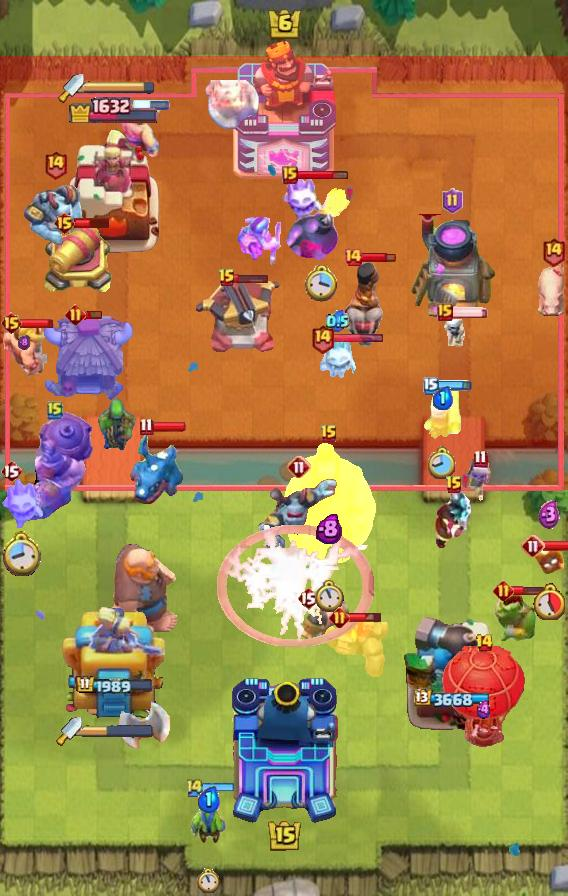axe: (118, 683, 172, 751), (205, 80, 261, 130)
bar: (296, 170, 349, 181), (332, 333, 384, 344), (74, 216, 111, 229), (451, 306, 489, 318), (151, 421, 187, 433), (348, 611, 383, 623), (361, 251, 396, 263), (511, 585, 546, 596), (437, 380, 472, 391), (234, 273, 269, 284), (132, 100, 170, 110), (202, 782, 236, 793), (20, 318, 54, 329), (543, 540, 568, 552), (83, 309, 103, 320)
bar-level: (310, 323, 335, 354), (541, 236, 566, 267), (43, 149, 68, 180), (521, 534, 545, 558), (287, 455, 311, 479), (0, 311, 23, 335), (53, 211, 76, 235), (442, 188, 463, 214), (297, 586, 319, 610), (0, 459, 22, 483), (329, 607, 350, 628), (493, 580, 514, 601), (65, 304, 86, 325), (185, 777, 205, 798), (343, 247, 363, 267), (475, 633, 494, 653), (445, 475, 463, 495), (320, 424, 338, 444), (218, 268, 236, 288), (47, 400, 63, 420), (423, 377, 439, 395), (437, 303, 453, 321), (282, 166, 298, 184), (473, 449, 488, 468), (139, 417, 154, 436)
bomb: (285, 186, 357, 260)
cannoneer-tower: (402, 615, 504, 731)
clock: (0, 529, 41, 576), (305, 265, 338, 303), (533, 583, 565, 620), (428, 446, 457, 481), (315, 580, 344, 613), (197, 868, 220, 894)
dagger-duchess-tower: (60, 607, 168, 731), (64, 124, 164, 256)
dagger-duchess-tower-bar: (82, 724, 154, 738), (84, 80, 156, 94)
electro-dragon: (129, 432, 185, 508)
electro-wizard: (431, 491, 477, 551)
elite-barbarian: (1, 323, 47, 377), (119, 101, 163, 157)
elixir: (316, 513, 342, 544), (538, 500, 560, 530), (197, 786, 220, 813), (326, 310, 349, 333), (432, 386, 453, 410), (475, 700, 493, 719), (18, 335, 30, 350)
fire-spirit: (533, 544, 565, 576)
firecracker: (421, 383, 463, 441)
goblin: (189, 787, 227, 845)
goblin-brawler: (495, 594, 537, 644)
golemite: (323, 616, 389, 678)
hog: (534, 258, 568, 320)
ice-spirit: (316, 335, 358, 379)
ice-spirit-evolution: (0, 476, 44, 530), (280, 171, 324, 225)
king-tower: (228, 676, 340, 826), (230, 41, 338, 181)
mega-minion: (257, 476, 341, 554), (23, 181, 87, 247)
ram-rider: (343, 261, 387, 347)
royal-hog: (295, 594, 349, 644)
skeleton: (441, 316, 469, 350)
skeleton-evolution: (465, 457, 495, 503)
spear-goblin: (236, 216, 284, 268), (97, 396, 137, 454)
tower-bar: (68, 94, 160, 123), (75, 675, 154, 696), (414, 689, 492, 709)
